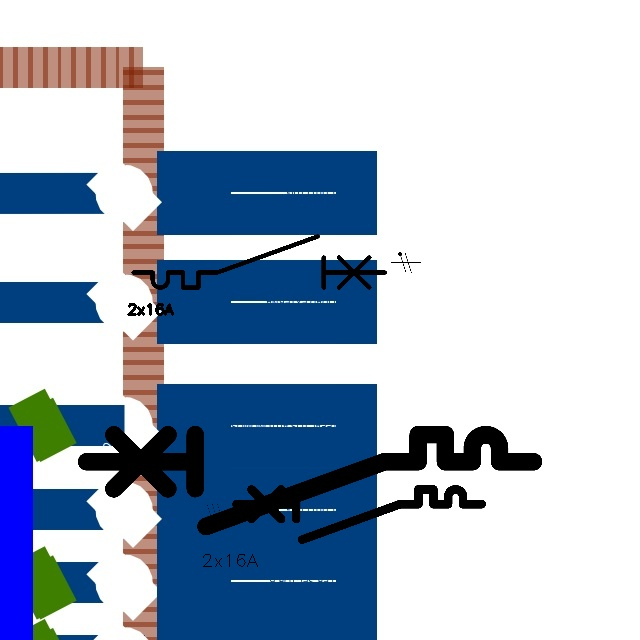interruptor_termomagnetico: (75, 423, 545, 538), (127, 230, 391, 294), (230, 483, 488, 546)
